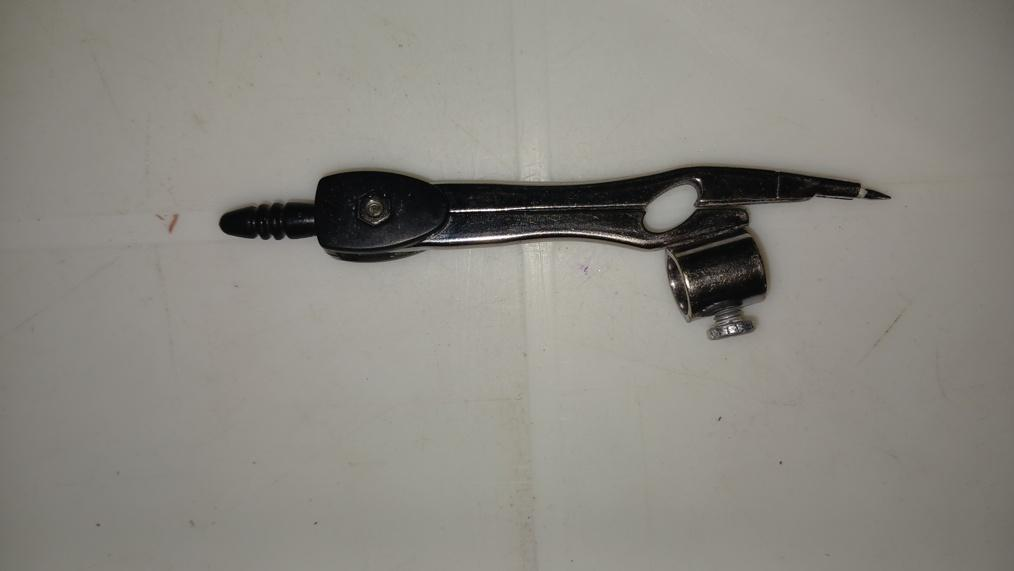Compass: (222, 162, 898, 341)
